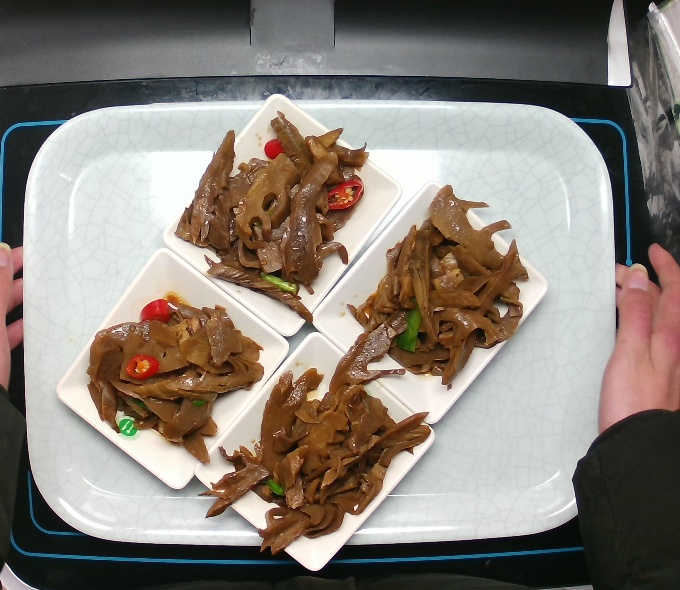wcq-SunGan: (196, 360, 437, 560), (174, 104, 375, 330), (331, 181, 531, 400), (80, 282, 269, 471)
